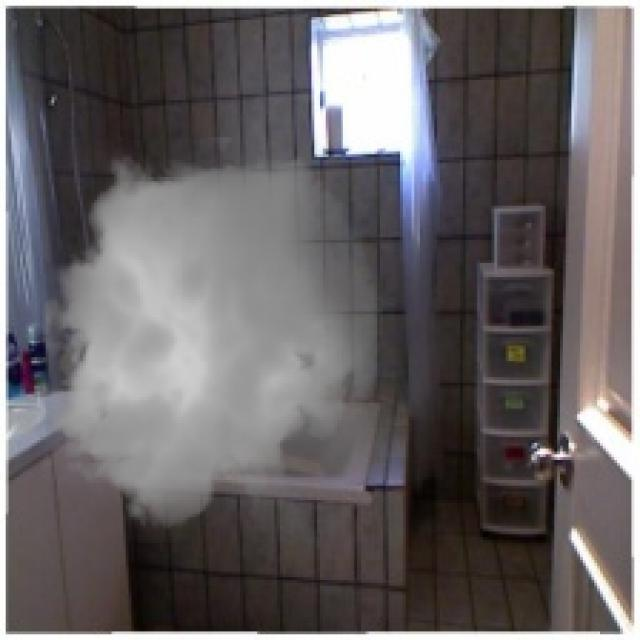Smoke: (28, 137, 394, 543)
